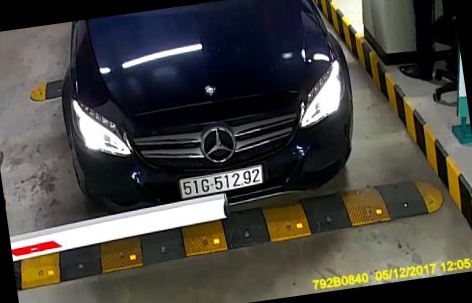plate: (175, 163, 268, 204)
